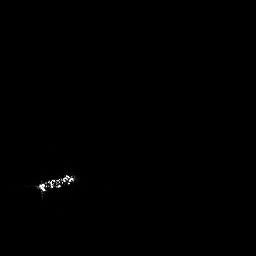ship: (33, 172, 78, 201)
